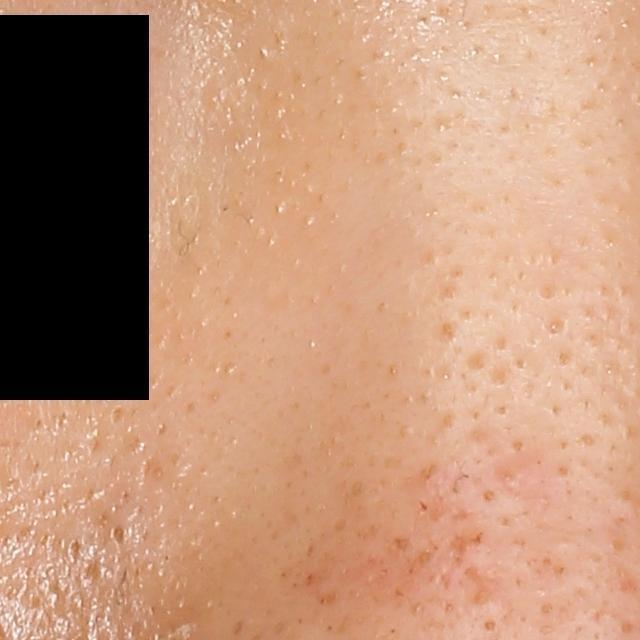atrophic_scar: (438, 530, 486, 590), (466, 563, 502, 604)
comedo: (478, 609, 502, 637), (543, 312, 567, 339), (478, 484, 499, 507)
